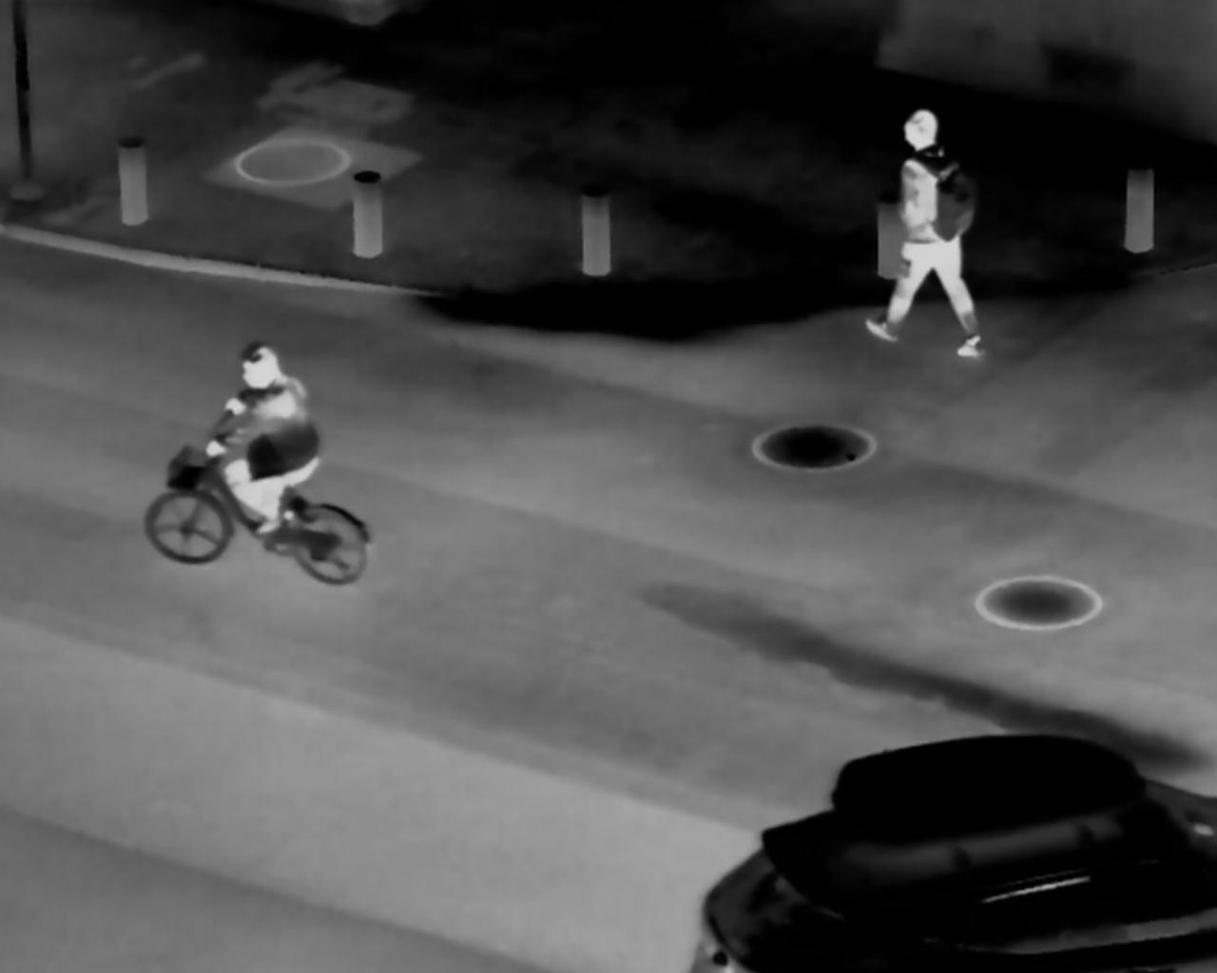person: (875, 101, 985, 366), (184, 340, 321, 544)
